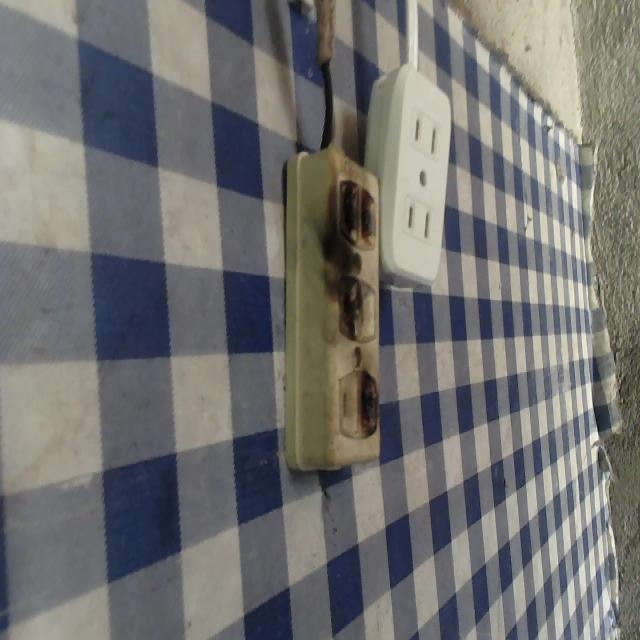-: (331, 172, 385, 257), (352, 360, 383, 437), (330, 272, 362, 341)
